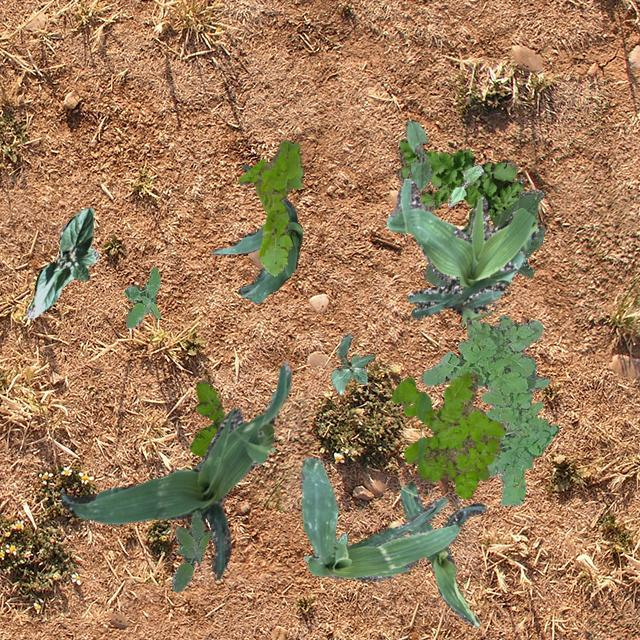crop: (61, 360, 290, 578), (386, 178, 540, 324), (300, 456, 460, 580), (422, 177, 544, 286), (399, 480, 486, 626), (210, 164, 302, 302), (26, 206, 98, 318), (330, 332, 374, 393), (404, 120, 432, 190), (447, 164, 482, 206)
weed: (420, 314, 558, 504), (389, 370, 504, 498), (394, 138, 522, 228), (236, 140, 304, 274), (170, 508, 210, 592), (188, 378, 222, 456), (122, 266, 160, 326), (303, 532, 347, 560)
